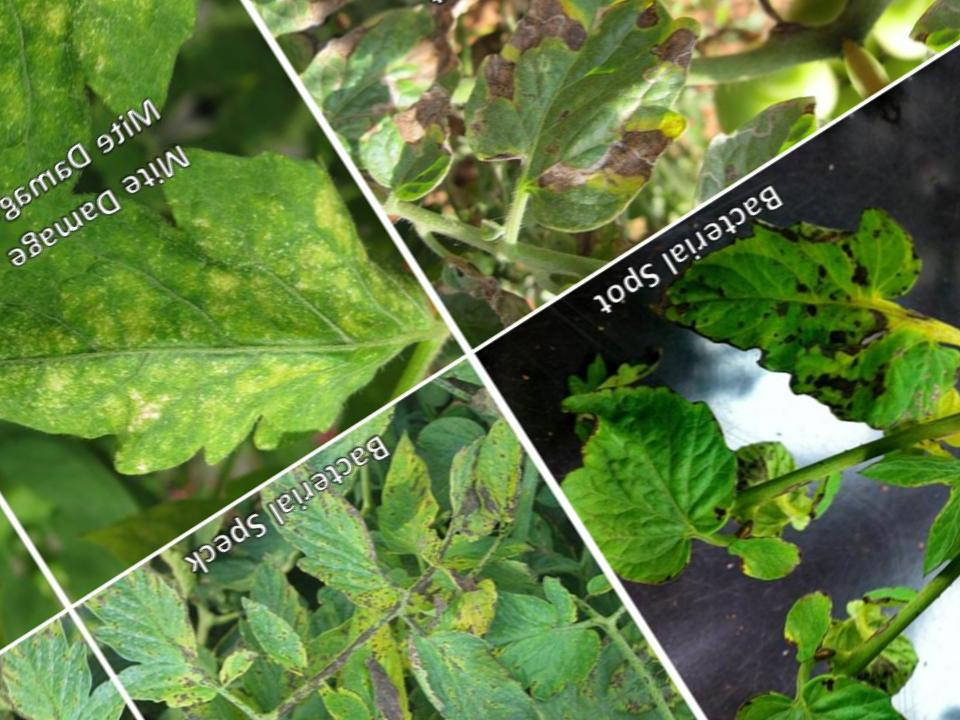Tomato Early blight leaf: (384, 0, 811, 276)
Tomato leaf bacterial spot: (627, 125, 960, 511), (499, 293, 792, 612), (78, 538, 277, 720), (446, 545, 639, 720), (259, 447, 427, 645), (328, 411, 488, 596), (379, 572, 565, 720), (405, 405, 546, 552), (303, 654, 405, 720)
